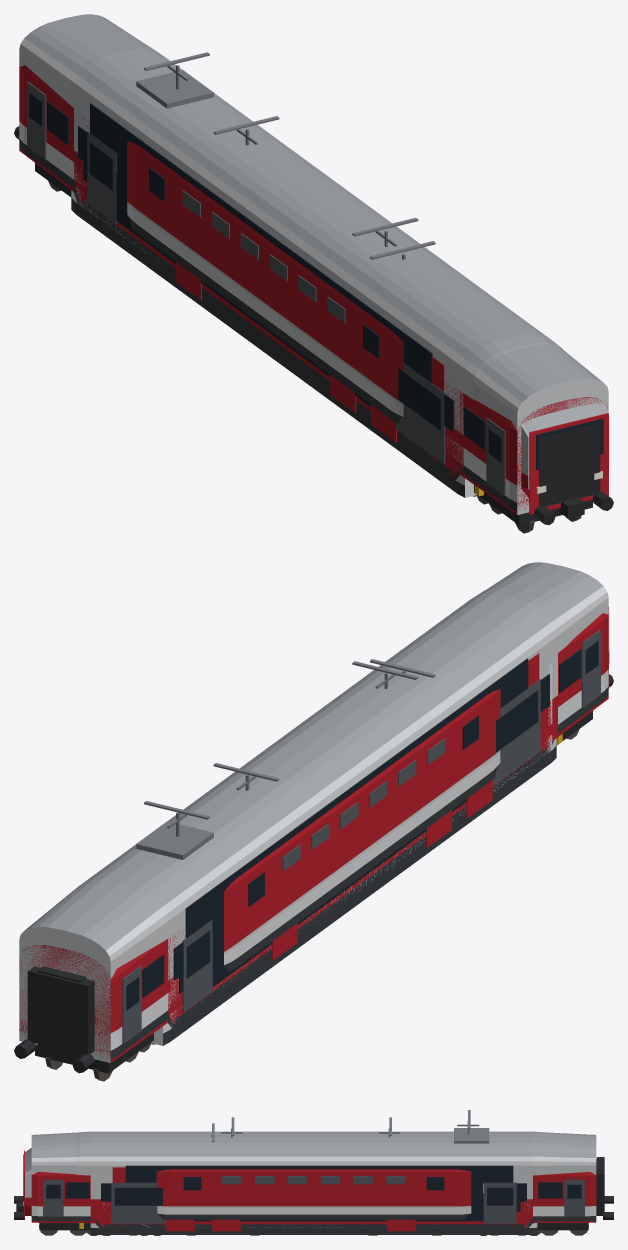
Rendered from vlaky.glb.
3 views of the same model, one above another, from view 1: azimuth 30°, elevation 25°; view 2: azimuth 150°, elevation 25°; view 3: azimuth 270°, elevation 25° (orthographic). The views are drawn at different scales.
Parts seen in each view (by area): view 1: 671-celo, 671-stred, lok-361, voz-ic, reg-celo, reg-stred; view 2: 671-celo, 671-stred, lok-361, voz-ic, reg-celo, reg-stred; view 3: 671-celo, lok-361, 671-stred, voz-ic, reg-celo, reg-stred.
Boxes of the visible parts, <box> form: 671-celo: <box>19,14,609,533</box>; 671-stred: <box>81,54,608,515</box>; lok-361: <box>127,116,418,423</box>; voz-ic: <box>14,65,613,525</box>; reg-celo: <box>71,118,483,496</box>; reg-stred: <box>75,125,488,504</box>; 671-celo: <box>19,587,609,1081</box>; 671-stred: <box>95,562,608,1032</box>; lok-361: <box>213,661,500,971</box>; voz-ic: <box>14,613,613,1073</box>; reg-celo: <box>139,659,562,1052</box>; reg-stred: <box>170,663,556,1040</box>; 671-celo: <box>16,1110,602,1235</box>; lok-361: <box>156,1117,471,1235</box>; 671-stred: <box>25,1131,524,1232</box>; voz-ic: <box>14,1157,613,1235</box>; reg-celo: <box>79,1123,543,1235</box>; reg-stred: <box>84,1179,530,1235</box>.
Size of what is drawn, in the model's own units: 3.01 by 5.53 by 27.4.
